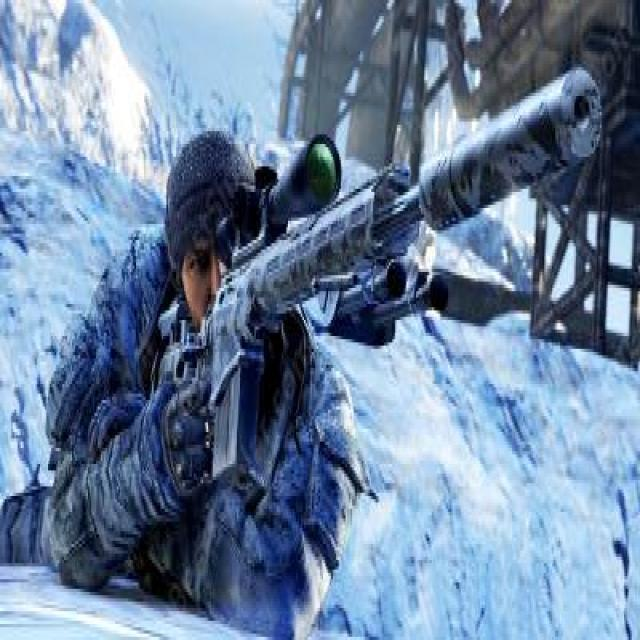rifle: (149, 53, 618, 503)
